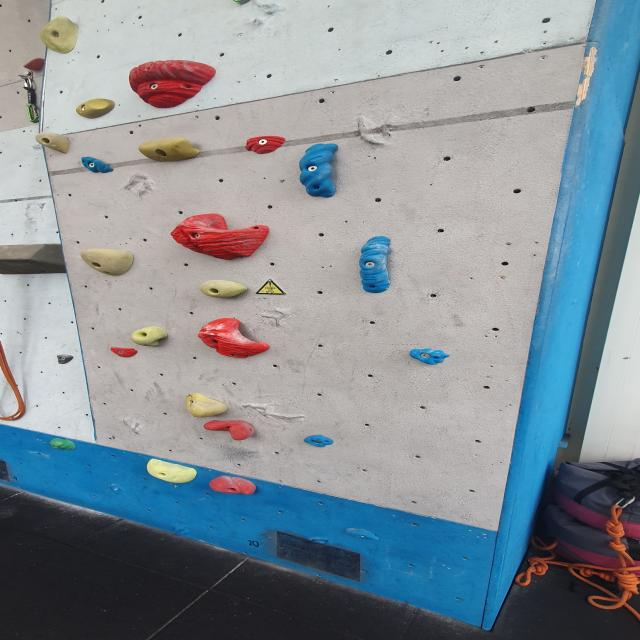Crimp: (144, 461, 200, 486), (244, 135, 290, 154), (79, 155, 115, 173), (409, 350, 454, 364), (302, 436, 336, 449), (109, 346, 139, 358)
Jug: (129, 60, 223, 112), (170, 213, 274, 259), (194, 320, 271, 360), (39, 15, 82, 56), (78, 247, 136, 277), (137, 136, 203, 162), (201, 419, 257, 442), (198, 279, 250, 300), (129, 326, 170, 348), (34, 133, 72, 154)
Pinch: (294, 142, 348, 198), (355, 235, 395, 293)
Sloper: (183, 392, 230, 418), (208, 477, 260, 497), (75, 98, 118, 120)
